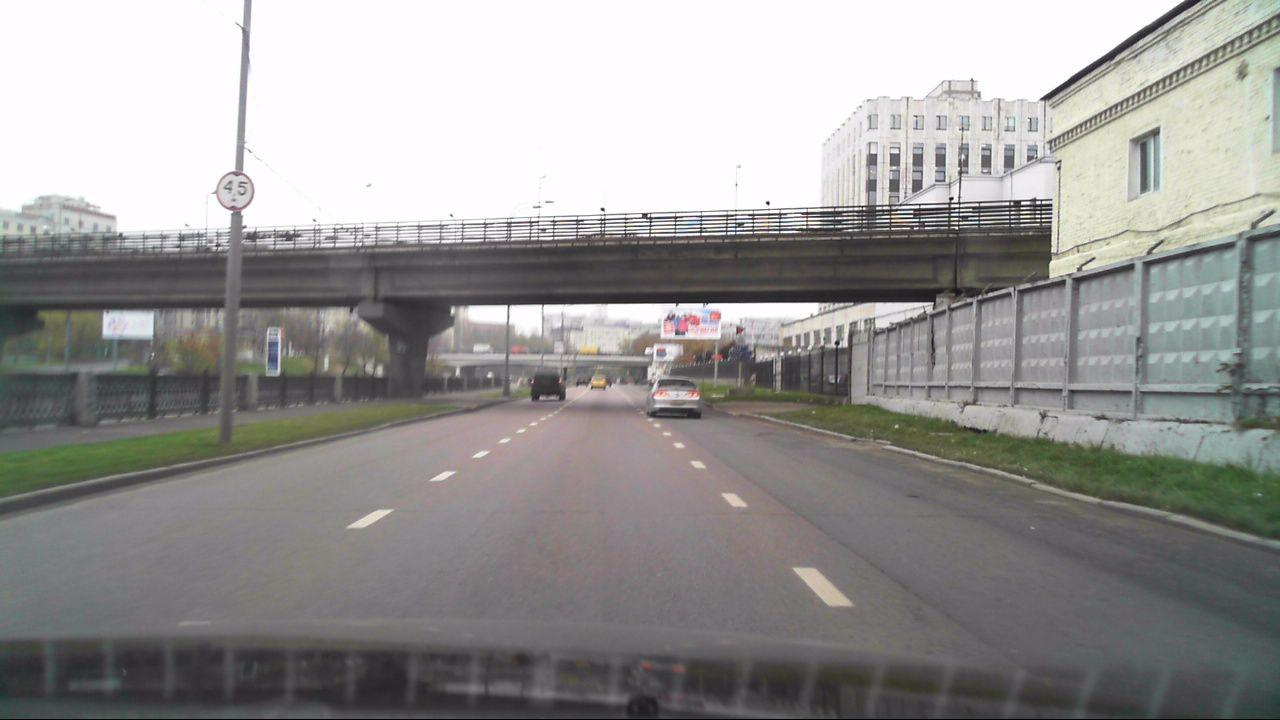3_13: (214, 170, 256, 211)
